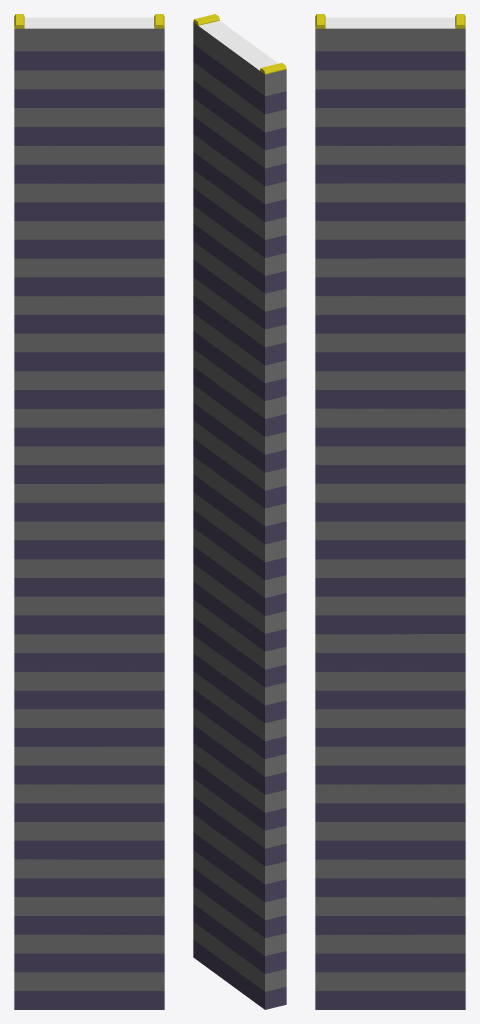
File: Road.fbx
The picture shows the model from 3 angles, left to right: view 1: azimuth 90°, elevation 25°; view 2: azimuth 210°, elevation 25°; view 3: azimuth 270°, elevation 25°; orthographic projection. The views are drawn at different scales.
Parts seen in each view (by area): view 1: Path; view 2: Path; view 3: Path.
Boxes of the visible parts, left/top/right/bottom form: Path: left=14, top=14, right=164, bottom=1009; Path: left=193, top=14, right=286, bottom=1009; Path: left=315, top=14, right=465, bottom=1009.
Size of the model in its own units: 1 by 41.95 by 5.8.
